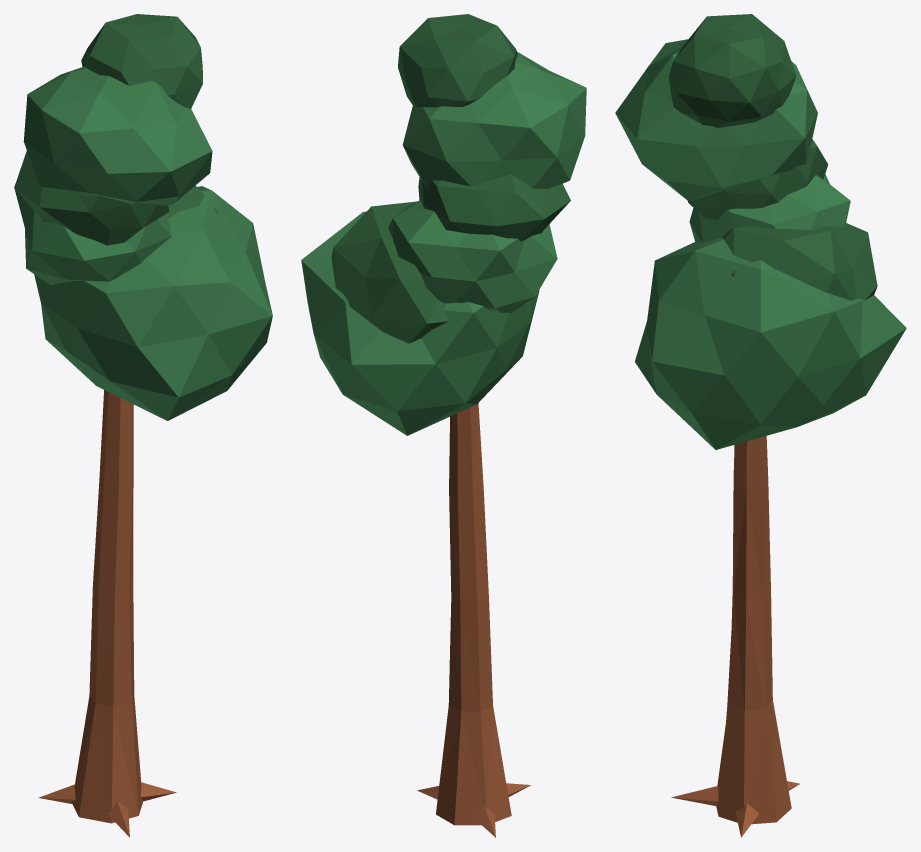
Rendered from HS_LP_Tree_RedPine_01.fbx.
The picture shows the model from 3 angles, left to right: view 1: azimuth 30°, elevation 25°; view 2: azimuth 150°, elevation 25°; view 3: azimuth 270°, elevation 25°; orthographic projection. The views are drawn at different scales.
Parts seen in each view (by area): view 1: HS_LP_Tree_RedPine_01; view 2: HS_LP_Tree_RedPine_01; view 3: HS_LP_Tree_RedPine_01.
Boxes of the visible parts, <box> form: HS_LP_Tree_RedPine_01: <box>14,14,272,837</box>; HS_LP_Tree_RedPine_01: <box>301,14,586,837</box>; HS_LP_Tree_RedPine_01: <box>615,14,906,837</box>.
Size of the model in its own units: 215 by 692 by 230.
